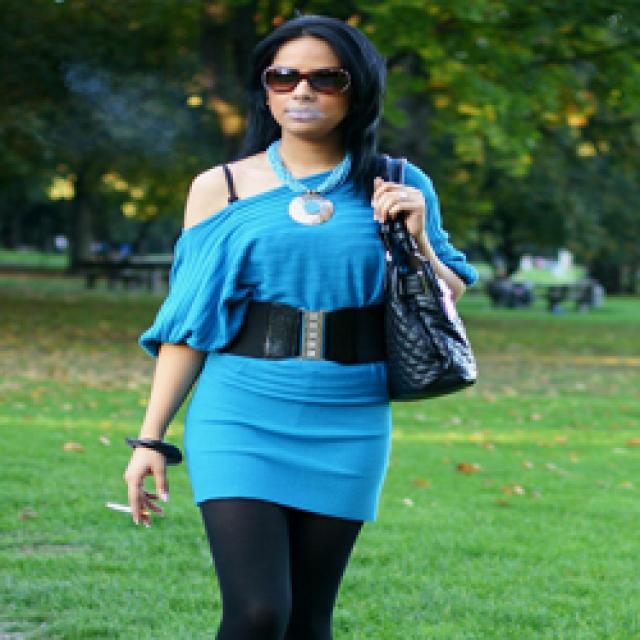Smooking: (101, 494, 133, 524)
